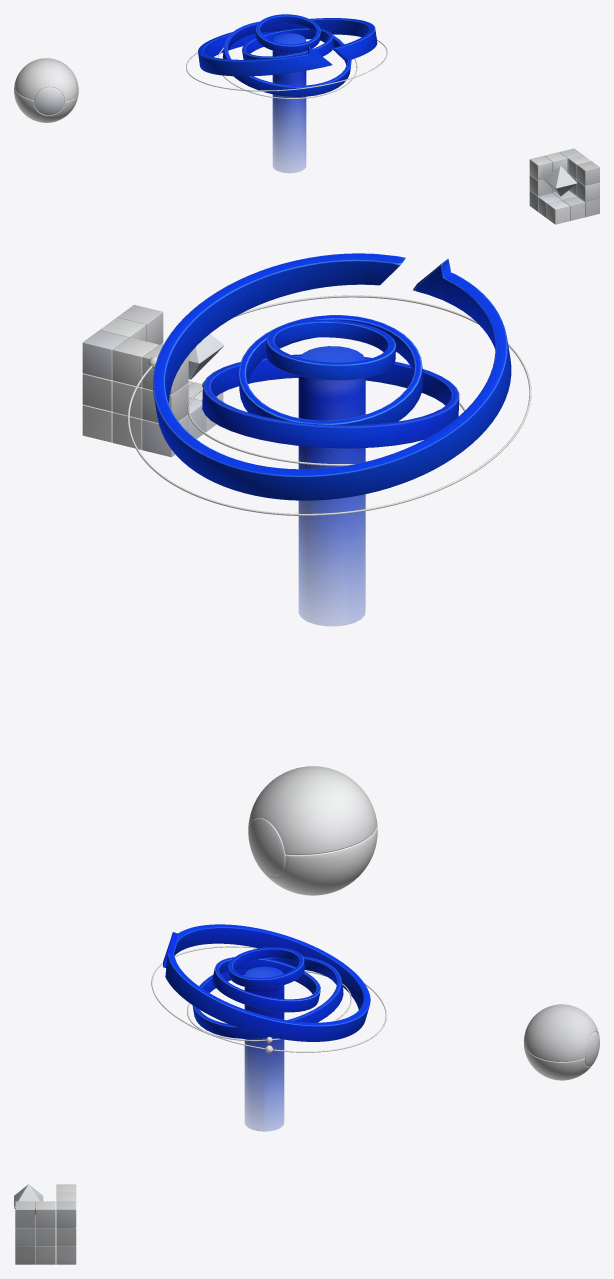
The model's file is banner.glb.
3 views of the same model, one above another, from view 1: azimuth 30°, elevation 25°; view 2: azimuth 150°, elevation 25°; view 3: azimuth 270°, elevation 25° (orthographic). The views are drawn at different scales.
Parts seen in each view (by area): view 1: round4, Cube, pillar, spheric, round3, round1, round2, Cube2, soft_light; view 2: round4, spheric, pillar, Cube, round3, round1, round2, soft_light; view 3: round4, spheric, pillar, Cube, round3, round2, round1, soft_light.
Boxes of the visible parts, x1,y1,x2,y2 form: round4: (198,18,377,76); Cube: (529,148,599,224); pillar: (272,33,306,172); spheric: (14,58,78,122); round3: (222,21,351,96); round1: (255,14,320,52); round2: (242,28,334,59); Cube2: (544,166,577,196); soft_light: (186,40,387,91); round4: (153,253,511,500); spheric: (248,766,377,895); pillar: (298,346,365,625); Cube: (82,304,223,457); round3: (202,354,459,448); round1: (265,319,395,380); round2: (238,315,423,424); soft_light: (127,295,531,515); round4: (163,924,370,1041); spheric: (523,1004,599,1080); pillar: (244,966,284,1131); Cube: (15,1184,76,1264); round3: (192,956,343,1038); round2: (212,957,320,1012); round1: (228,947,304,988); soft_light: (151,946,386,1052).
Bounding box in the file's own units: 89.05 × 42.22 × 110.
Materials: 4 (4 with a texture image).
